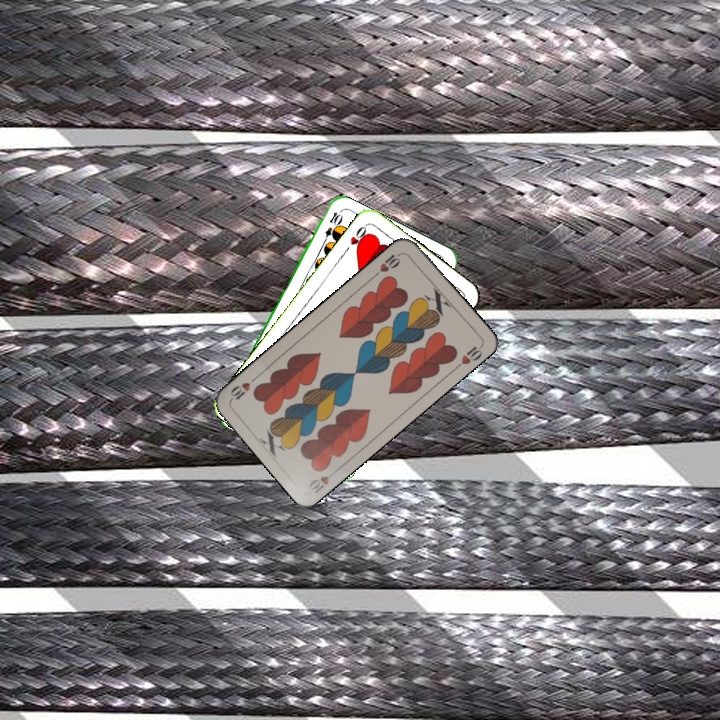E10: (318, 208, 343, 247)
H10: (304, 465, 341, 496), (370, 249, 404, 279)
HO: (340, 221, 372, 256)
